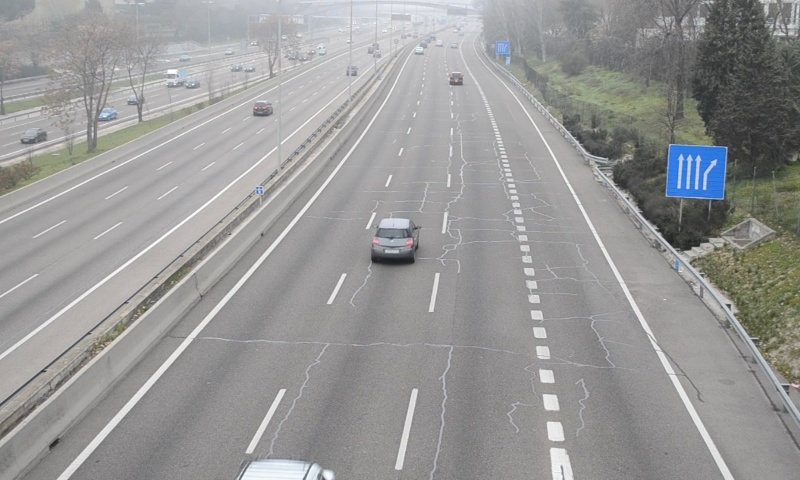car: (372, 218, 416, 260), (450, 72, 463, 86)
